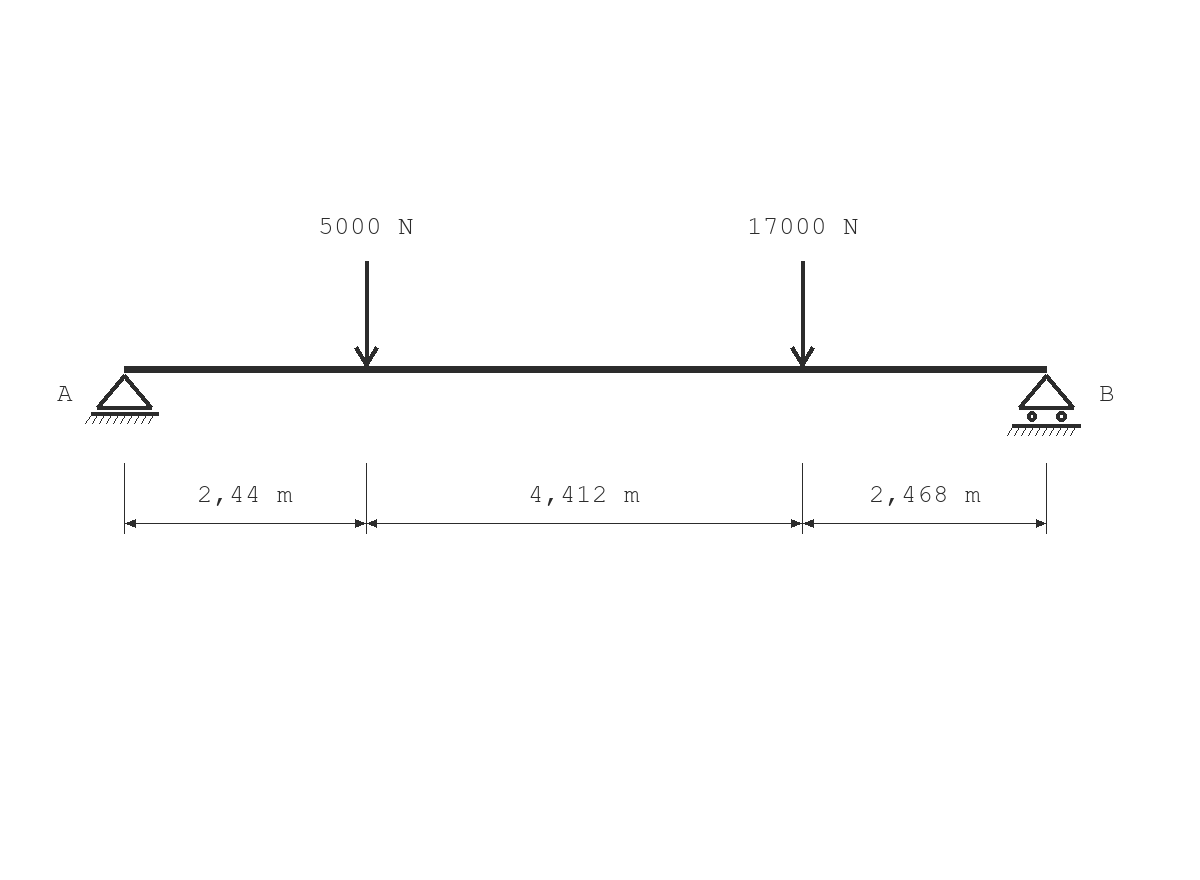pin_support: (85, 374, 159, 424)
point_load: (354, 261, 379, 367), (790, 261, 815, 367)
roller_support: (1007, 374, 1081, 436)
